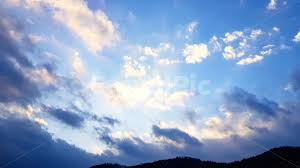sky: (3, 3, 299, 166)
